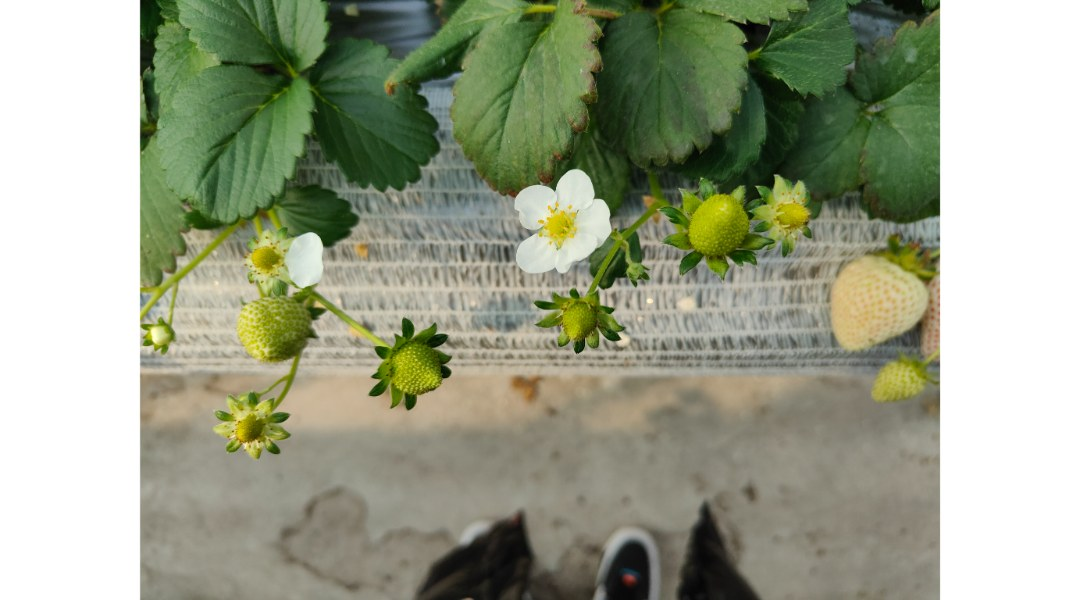berry: (823, 232, 930, 358), (691, 174, 764, 279), (538, 286, 636, 363), (224, 288, 322, 363), (377, 314, 457, 404), (215, 383, 294, 460), (757, 159, 817, 258), (868, 355, 930, 402), (140, 311, 182, 360)
flower: (497, 156, 612, 274), (265, 206, 326, 289)
strain: (159, 224, 240, 297), (331, 298, 391, 355)
